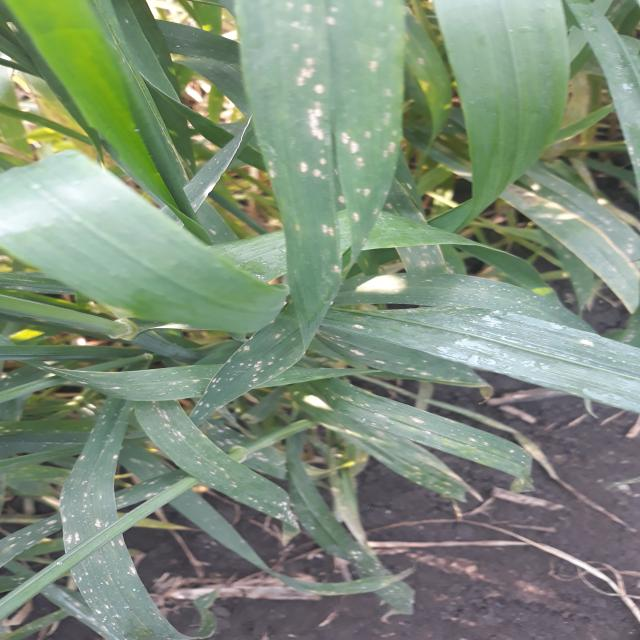powder_mildew: (229, 9, 416, 350), (313, 370, 505, 518), (67, 425, 167, 640), (425, 303, 626, 408), (137, 398, 290, 524), (53, 344, 319, 416), (0, 493, 79, 598)
